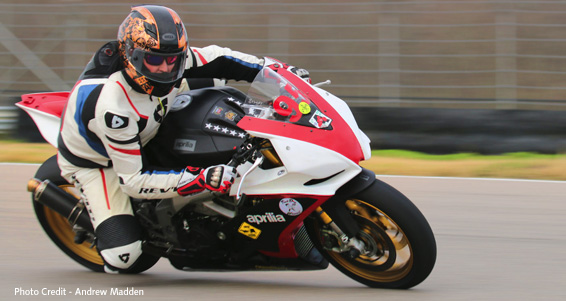helmet: (115, 3, 227, 213)
